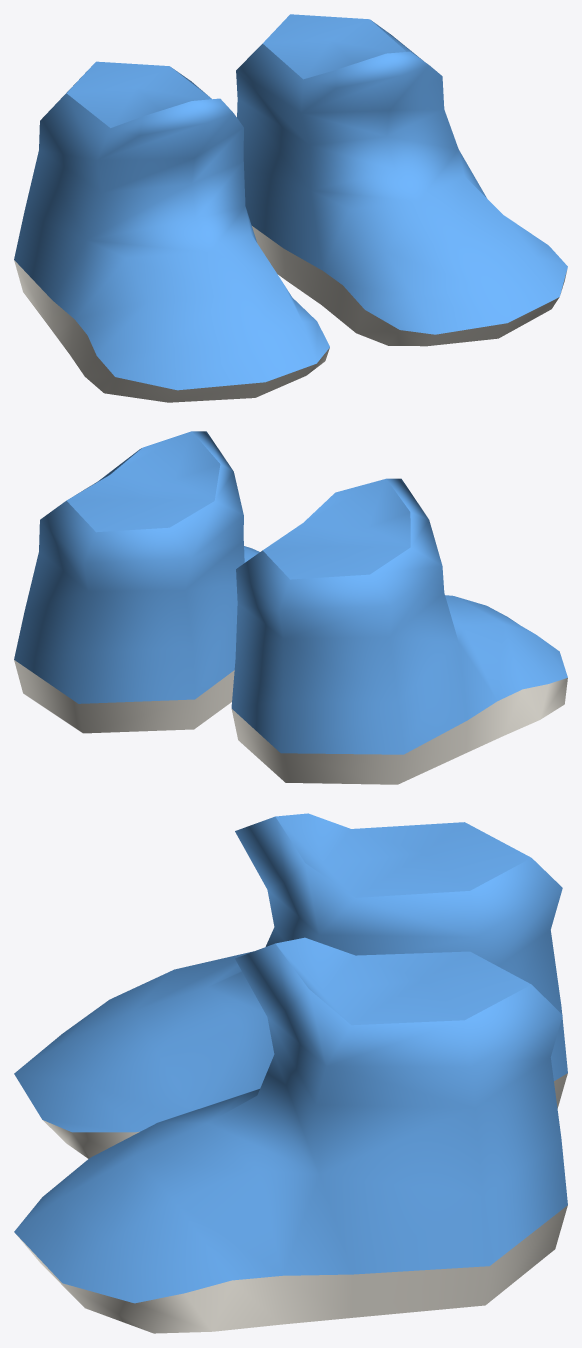
Rendered from Shoes_51.fbx.
The picture shows the model from 3 angles, top to bottom: view 1: azimuth 30°, elevation 25°; view 2: azimuth 150°, elevation 25°; view 3: azimuth 270°, elevation 25°; orthographic projection. The views are drawn at different scales.
Visible parts, largest first — view 1: Shoes_51; view 2: Shoes_51; view 3: Shoes_51.
Boxes of the visible parts, box(x1,y1,x2,y2) form: Shoes_51: box(14, 14, 567, 402); Shoes_51: box(14, 431, 567, 784); Shoes_51: box(14, 813, 567, 1333).
Size of the model in its own units: 48.64 by 22.86 by 37.86.
